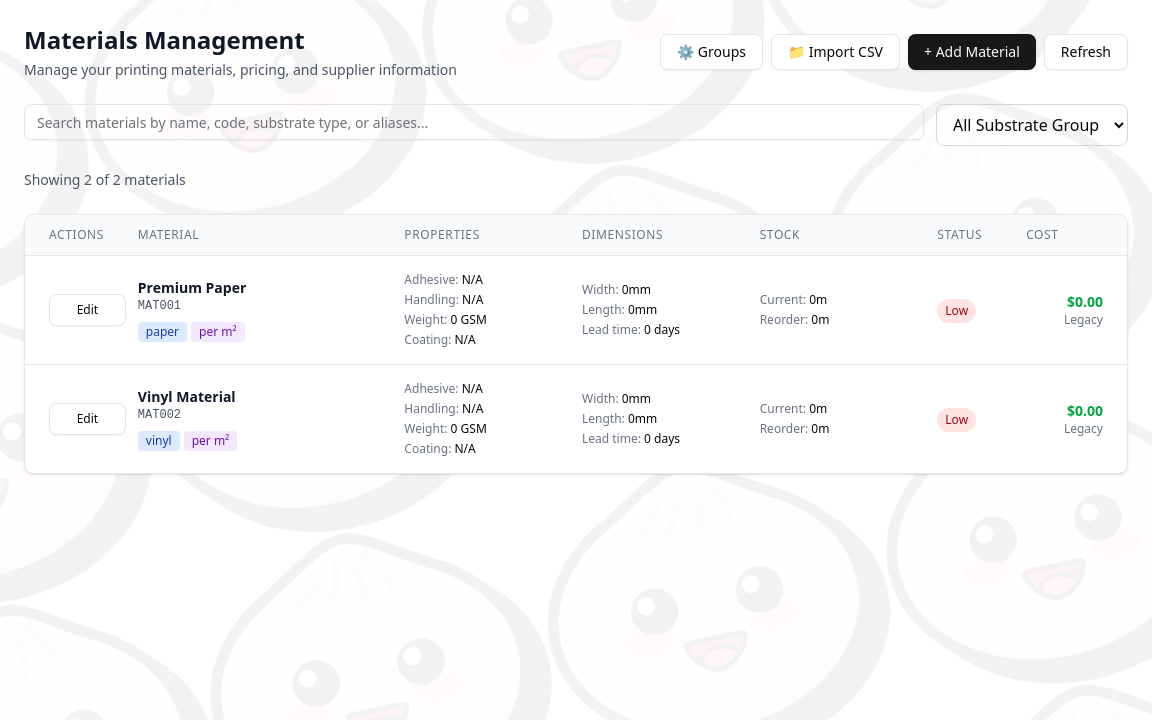
Test: MaterialsPage › CSV Upload Modal › opens CSV upload modal
Click the button "📁 Import CSV": (836, 52) [771,34,900,70]
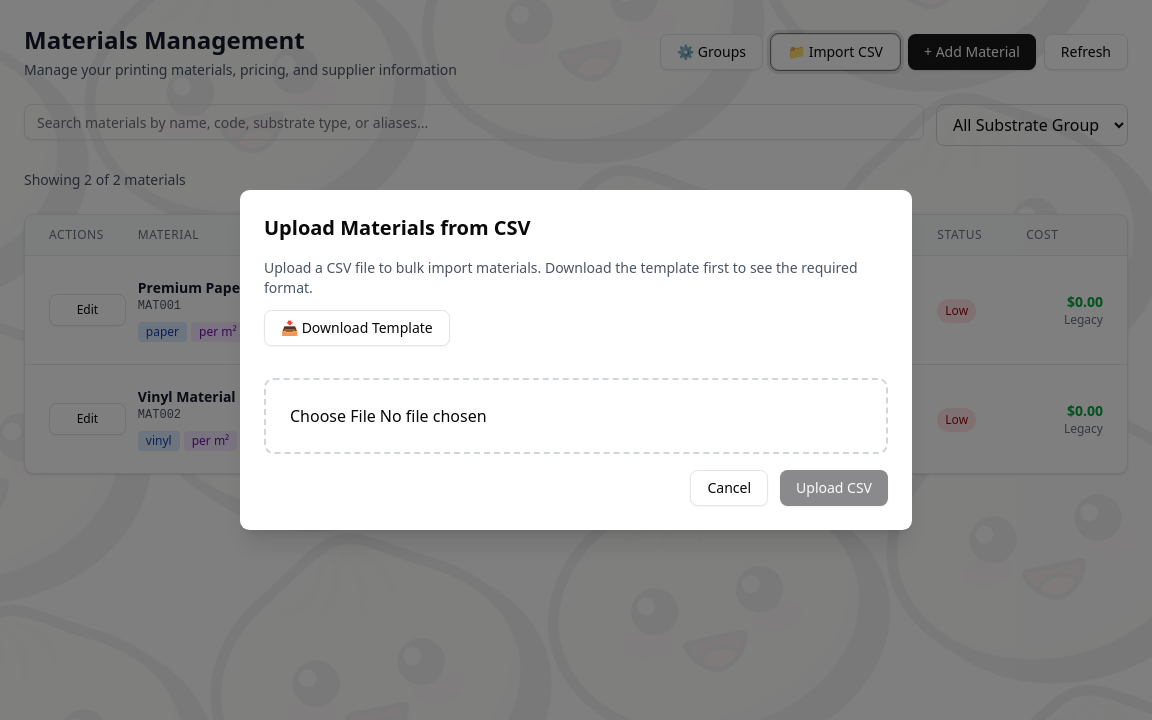
Expected: the heading "Upload Materials from CSV" is shown, [264,214,530,241]
Expected: the button "📥 Download Template" is shown, [264,310,450,346]
